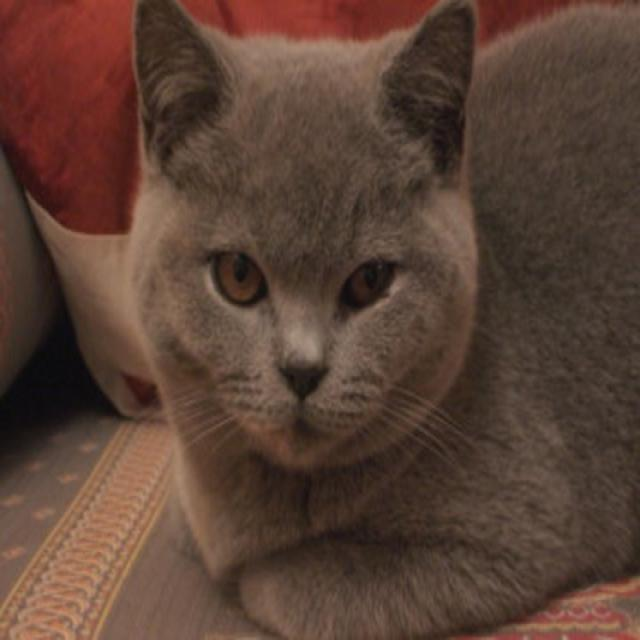British_Shorthair: (119, 0, 487, 482)
